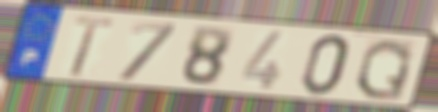0: (298, 32, 354, 97)
4: (239, 28, 286, 92)
7: (116, 19, 178, 81)
8: (179, 24, 235, 87)
Q: (352, 36, 417, 102)
T: (67, 13, 117, 79)
